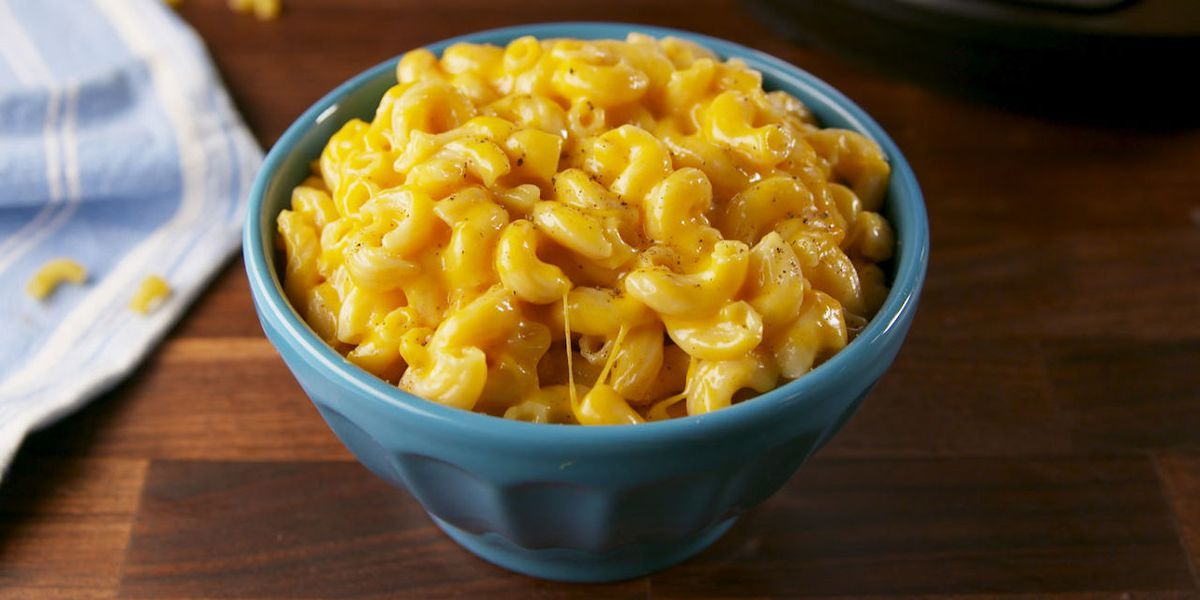macncheese: (288, 53, 906, 445)
